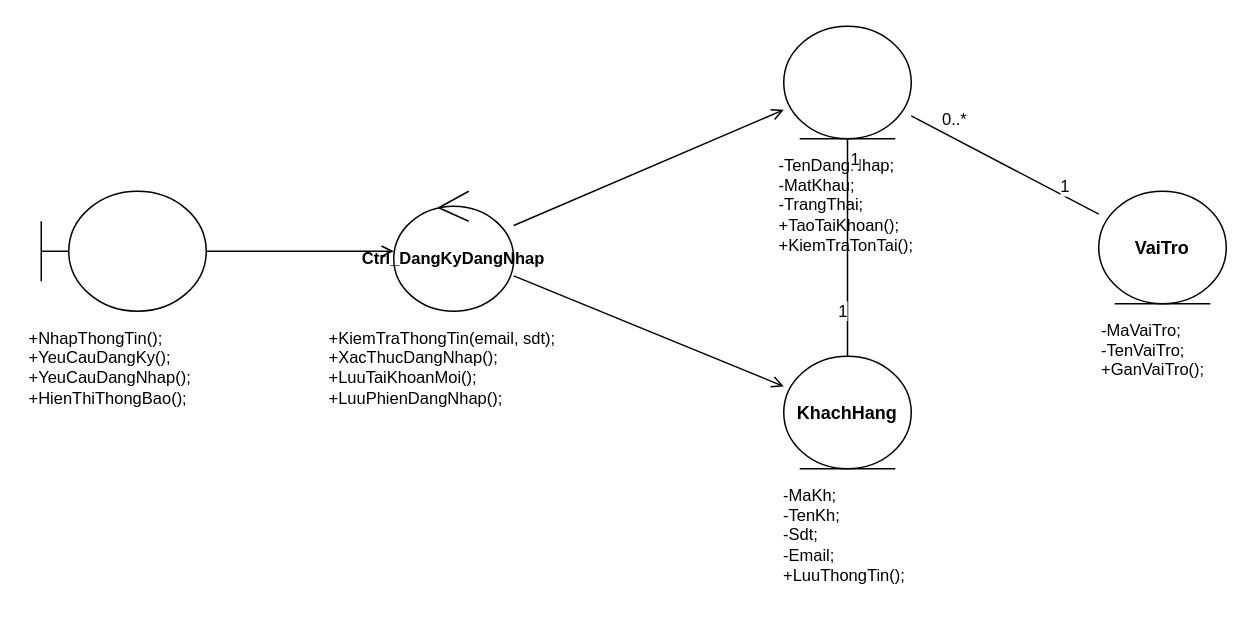
Image size: 1253x623. Some labels were removed from this diagram. Here are the shapes that lost their labels. From the top down, the box of each, then its label:
(782, 25, 911, 139): TaiKhoan
(40, 190, 206, 311): Frm_DangKyDangNhap
